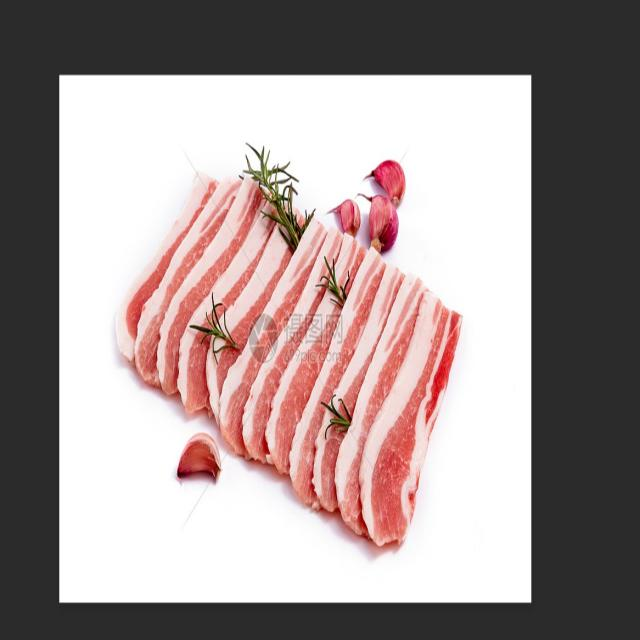pork: (124, 155, 454, 548)
